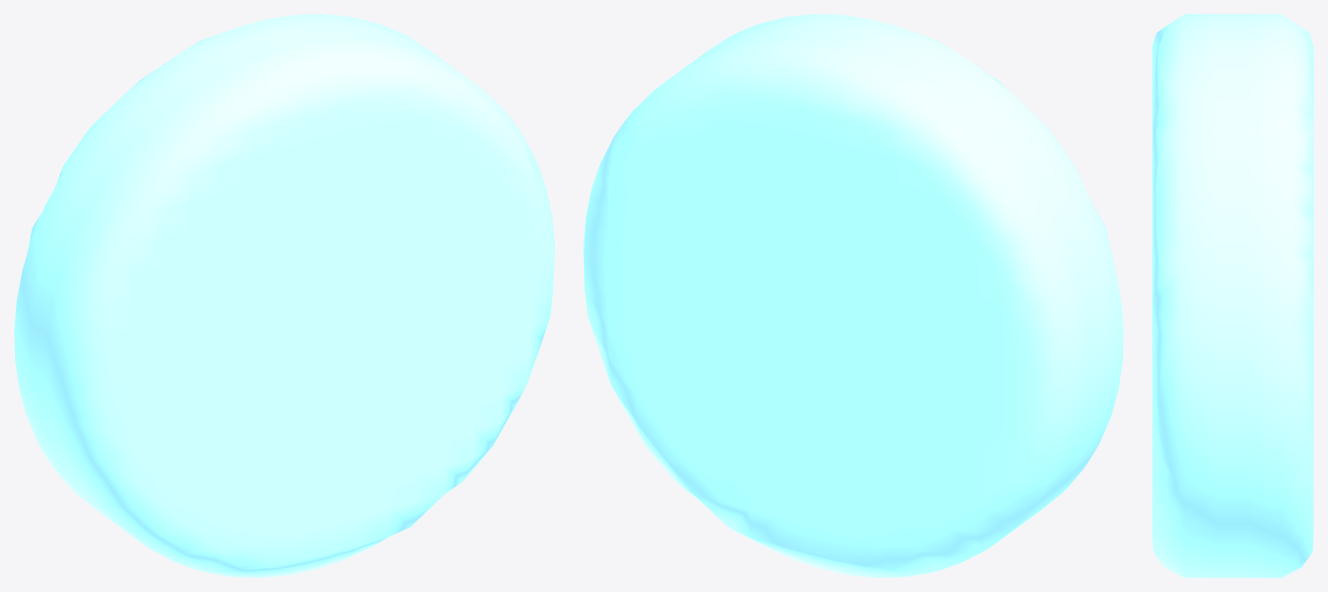
File: 023_front_status_indicator.glb
3 views of the same model, side by side, from view 1: azimuth 30°, elevation 25°; view 2: azimuth 150°, elevation 25°; view 3: azimuth 270°, elevation 25° (orthographic).
Parts seen in each view (by area): view 1: 023 | Front Status Indicator; view 2: 023 | Front Status Indicator; view 3: 023 | Front Status Indicator.
Boxes of the visible parts, bbox=[...] form: 023 | Front Status Indicator: bbox=[14, 14, 554, 577]; 023 | Front Status Indicator: bbox=[583, 14, 1123, 577]; 023 | Front Status Indicator: bbox=[1152, 14, 1313, 577].
Bounding box in the file's own units: 0.0014 × 0.0014 × 0.0004.
